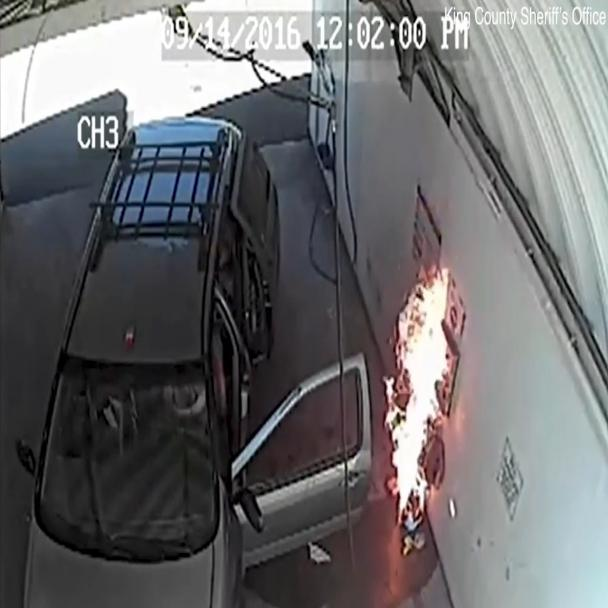Fire: (376, 219, 488, 527)
